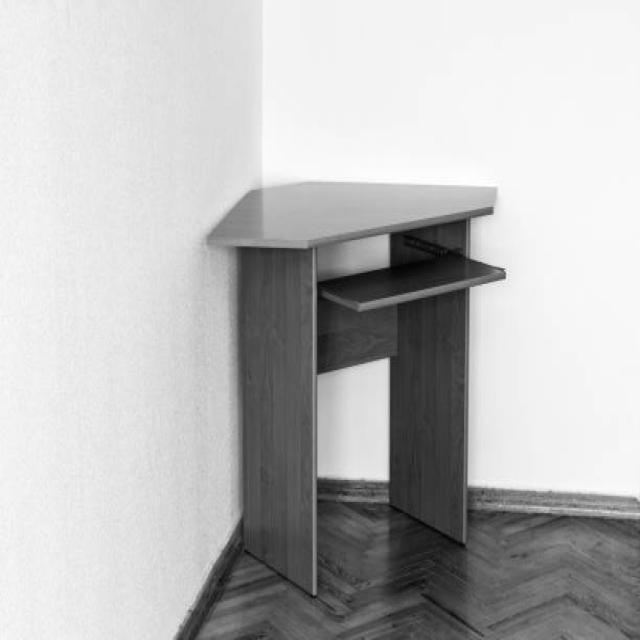table: (205, 177, 506, 596)
